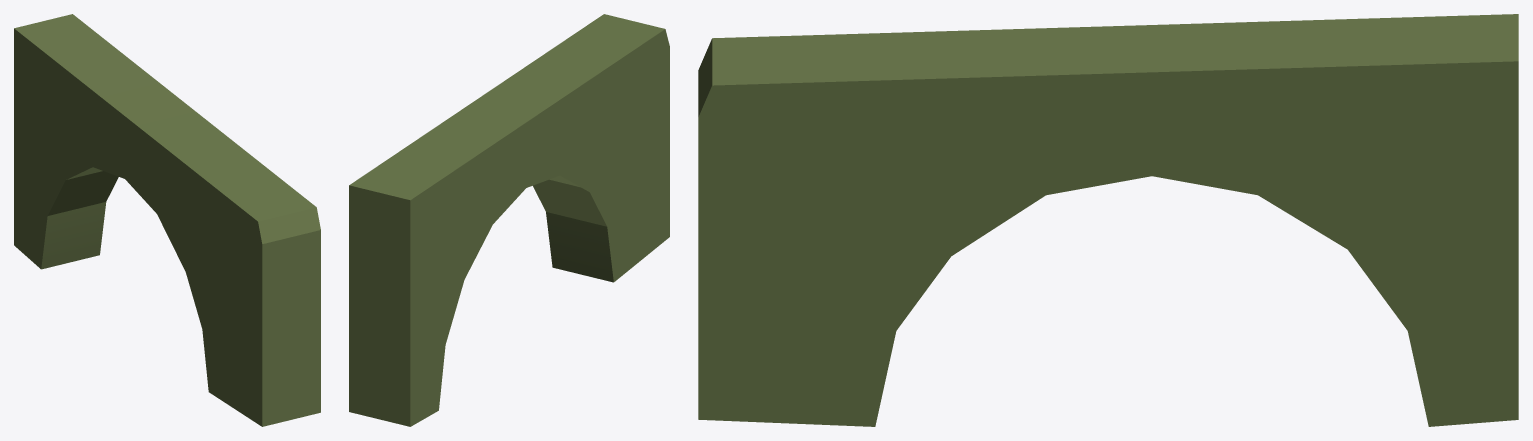
The model's file is ridgeback_4x4_fender_right.glb.
3 renders of one model, left to right at view 1: azimuth 30°, elevation 25°; view 2: azimuth 150°, elevation 25°; view 3: azimuth 270°, elevation 25°, orthographic. The views are drawn at different scales.
Visible parts, largest first — view 1: ridgeback_4x4_fender_right; view 2: ridgeback_4x4_fender_right; view 3: ridgeback_4x4_fender_right.
Boxes of the visible parts, bbox=[...] form: ridgeback_4x4_fender_right: bbox=[14, 14, 320, 426]; ridgeback_4x4_fender_right: bbox=[349, 14, 669, 426]; ridgeback_4x4_fender_right: bbox=[698, 14, 1518, 426].
Bounding box in the file's own units: 0.2015 × 0.7258 × 1.48.
